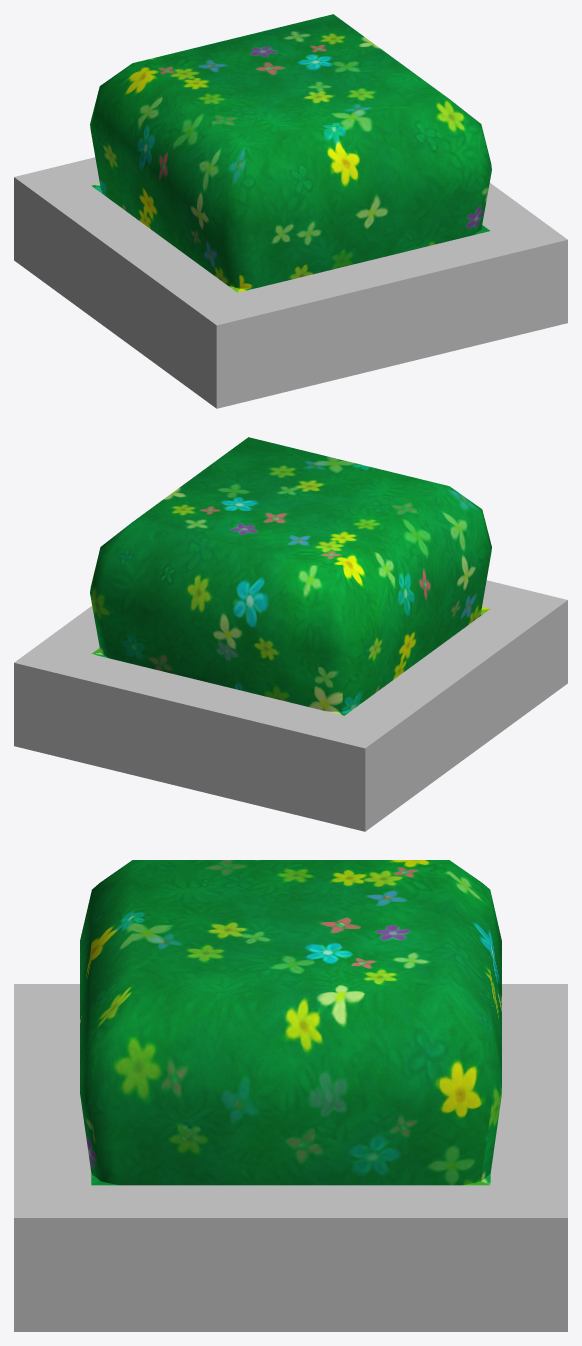
The model's file is Plant02_c01.FBX.
3 renders of one model, top to bottom at view 1: azimuth 30°, elevation 25°; view 2: azimuth 150°, elevation 25°; view 3: azimuth 270°, elevation 25°, orthographic. The views are drawn at different scales.
Parts seen in each view (by area): view 1: Plant02_c01; view 2: Plant02_c01; view 3: Plant02_c01.
Part boxes in pixels (left/top/right/bottom): Plant02_c01: left=14, top=14, right=567, bottom=408; Plant02_c01: left=14, top=437, right=567, bottom=831; Plant02_c01: left=14, top=860, right=567, bottom=1331.
Size of the model in its own units: 208 by 119 by 208.
